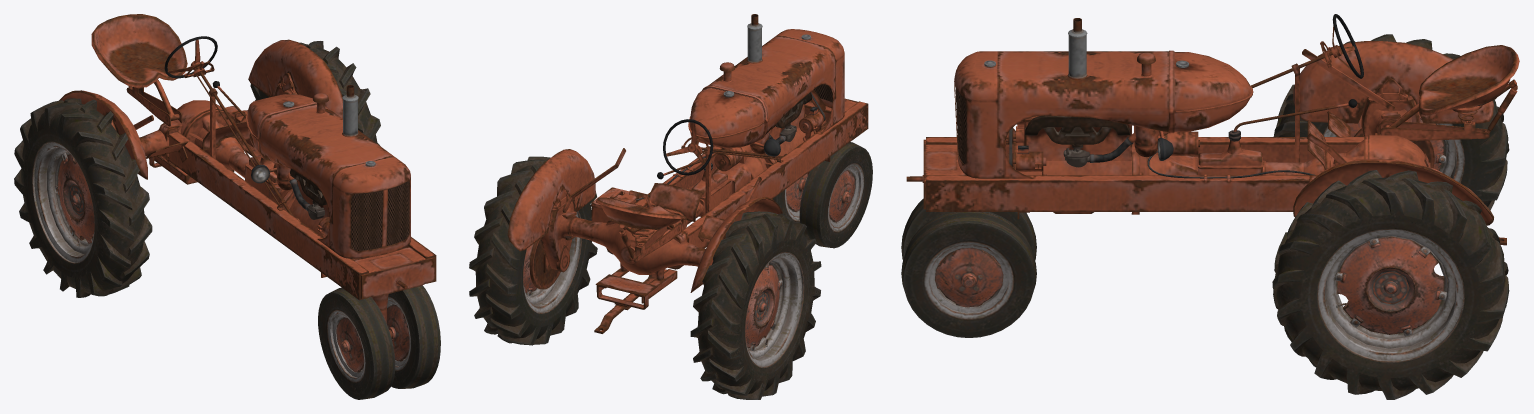
Rendered from SM_FAR_Tractor_01.fbx.
3 renders of one model, left to right at view 1: azimuth 30°, elevation 25°; view 2: azimuth 150°, elevation 25°; view 3: azimuth 270°, elevation 25°, orthographic. The views are drawn at different scales.
Visible parts, largest first — view 1: SM_FAR_Tractor_01.mo; view 2: SM_FAR_Tractor_01.mo; view 3: SM_FAR_Tractor_01.mo.
Boxes of the visible parts, x1=… form: SM_FAR_Tractor_01.mo: x1=14, y1=14, x2=440, y2=399; SM_FAR_Tractor_01.mo: x1=469, y1=14, x2=872, y2=399; SM_FAR_Tractor_01.mo: x1=901, y1=14, x2=1519, y2=399.
Size of the model in its own units: 197 by 182 by 324.
